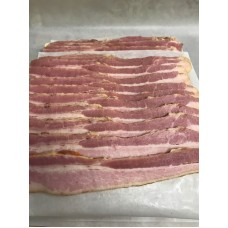bacon: (29, 38, 190, 184)
